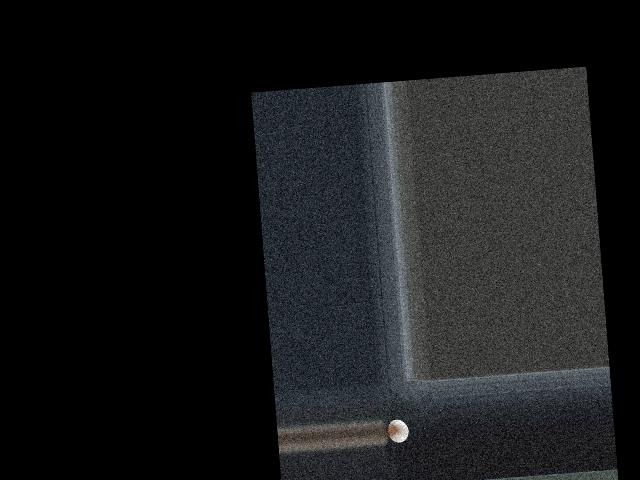egg: (386, 418, 409, 442)
